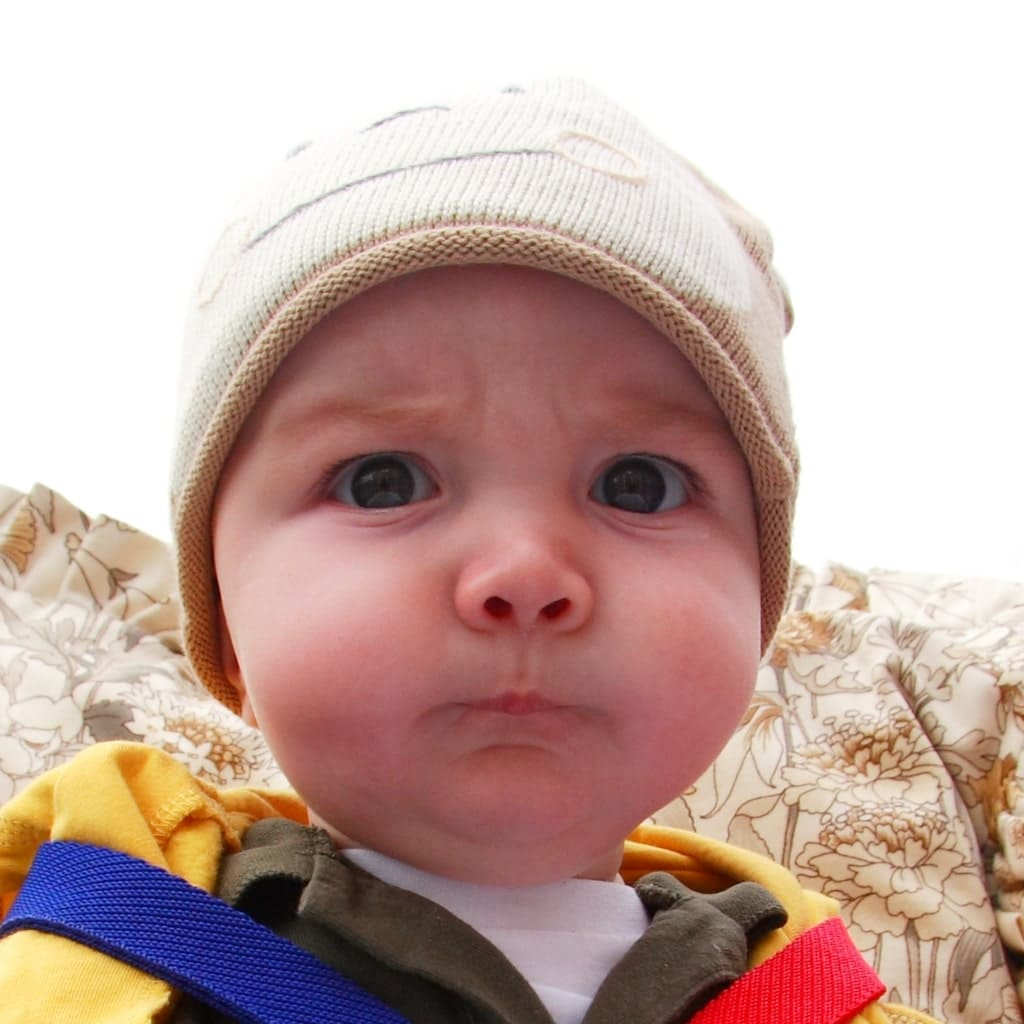without_mask: (246, 276, 766, 832)
